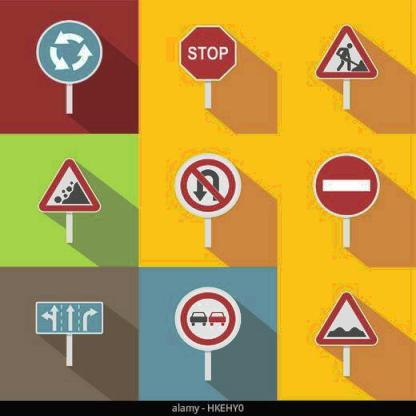No U-turn: (171, 151, 247, 225)
